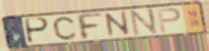C: (52, 16, 78, 41)
F: (74, 12, 104, 41)
N: (129, 7, 159, 37), (102, 10, 133, 39)
P: (156, 7, 183, 34), (25, 17, 51, 45)
